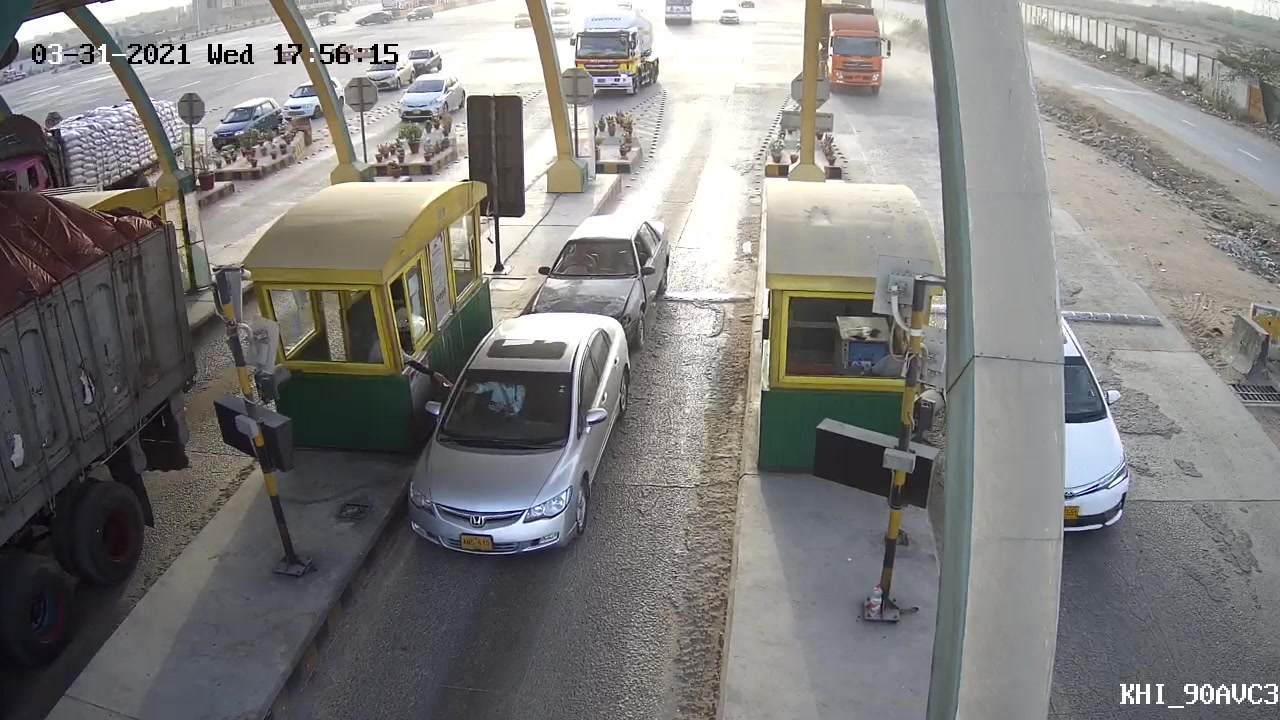F1: (389, 309, 642, 557)
